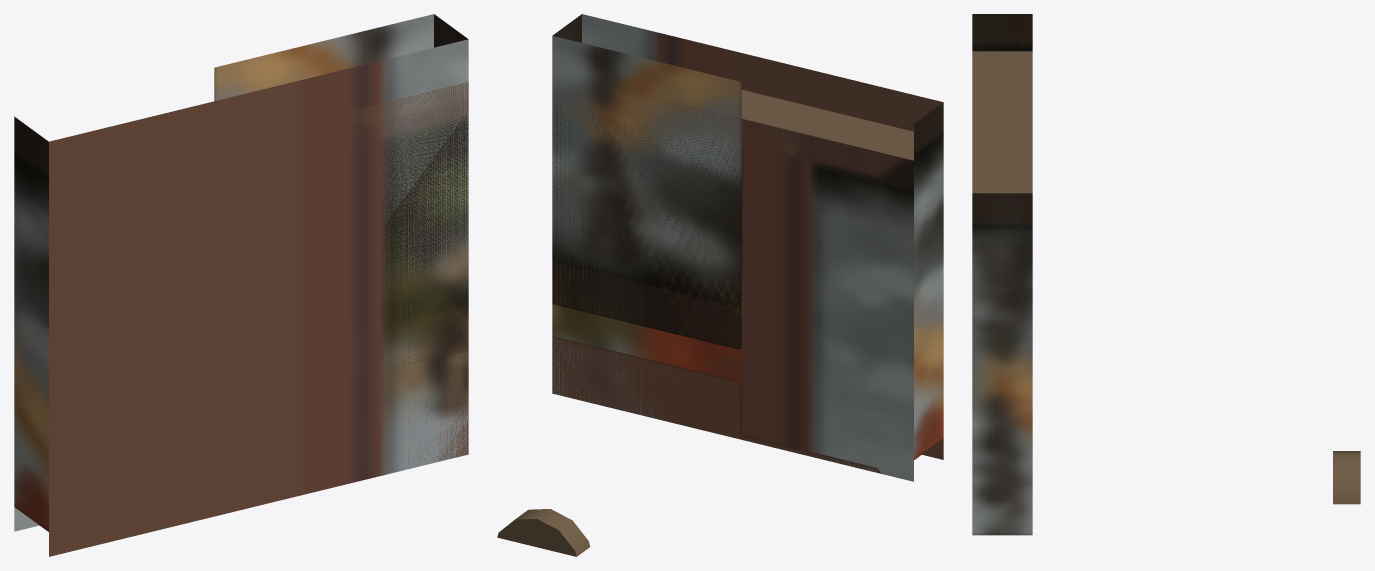
File: section-0.obj
The picture shows the model from 3 angles, left to right: view 1: azimuth 30°, elevation 25°; view 2: azimuth 150°, elevation 25°; view 3: azimuth 270°, elevation 25°; orthographic projection. The views are drawn at different scales.
Size of the model in its own units: 0.9774 by 0.9239 by 0.8941.
